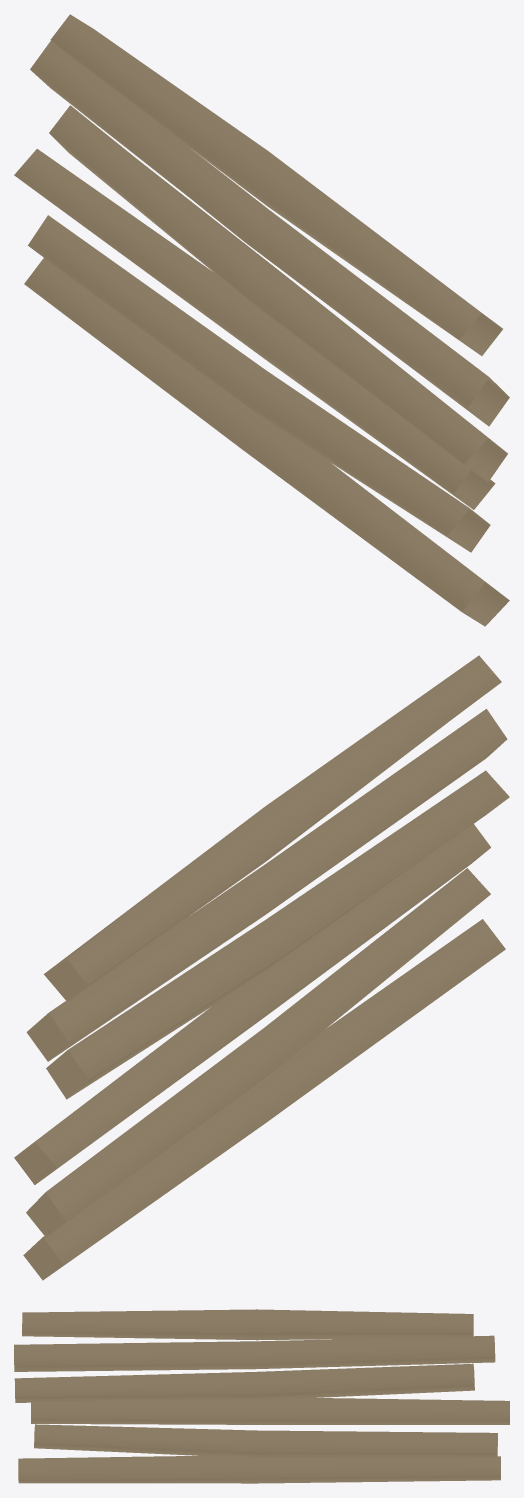
File: Blender_SplitRailFence_1.glb
3 views of the same model, one above another, from view 1: azimuth 30°, elevation 25°; view 2: azimuth 150°, elevation 25°; view 3: azimuth 270°, elevation 25° (orthographic). The views are drawn at different scales.
Visible parts, largest first — view 1: Blender_SplitRailFence_1; view 2: Blender_SplitRailFence_1; view 3: Blender_SplitRailFence_1.
Part boxes in pixels (x1=…): Blender_SplitRailFence_1: x1=14, y1=14, x2=509, y2=626; Blender_SplitRailFence_1: x1=14, y1=655, x2=509, y2=1280; Blender_SplitRailFence_1: x1=14, y1=1309, x2=509, y2=1483.
Size of the model in its own units: 0.2215 by 1.24 by 3.21.
